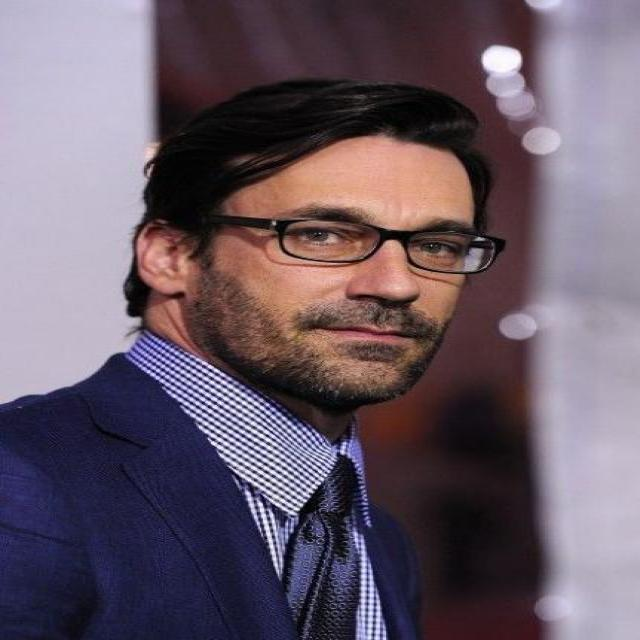glasses: (211, 212, 508, 276)
